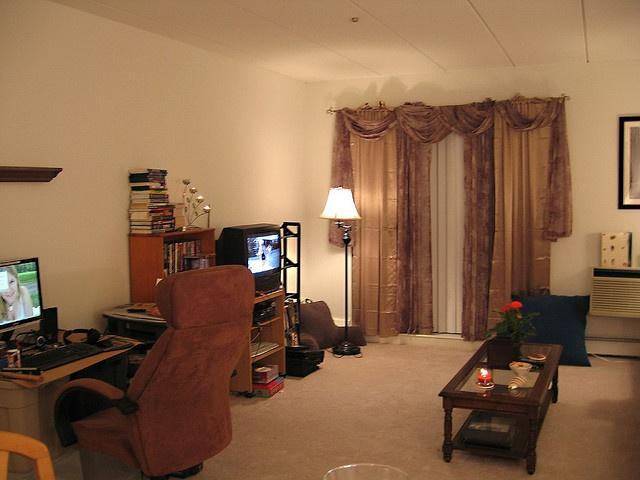AIO PC-Monitor-TV: (0, 255, 43, 334)
Meja: (436, 338, 563, 474)
